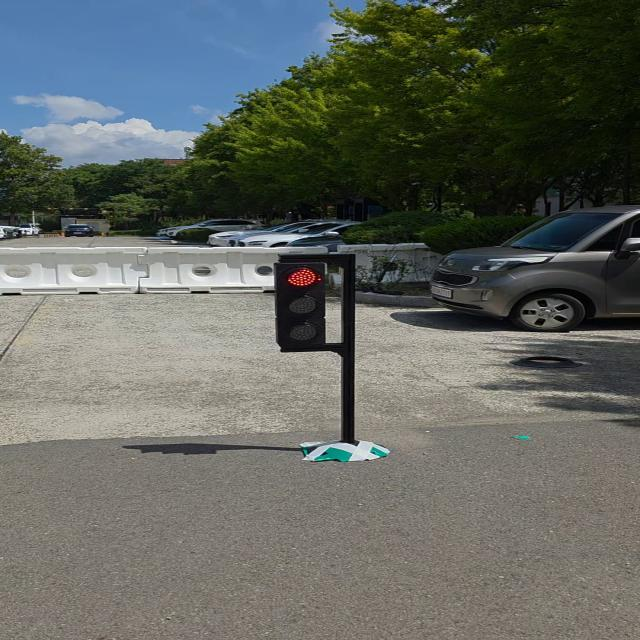red: (266, 257, 334, 351)
